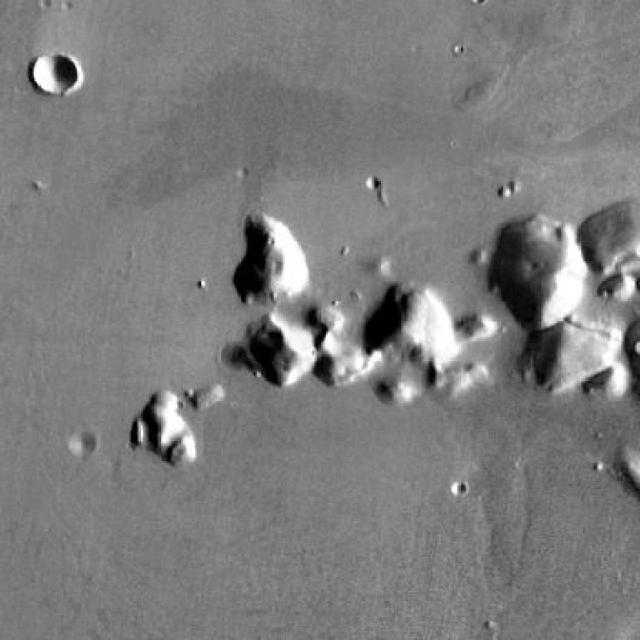crater: (34, 54, 74, 92), (64, 434, 93, 460)
